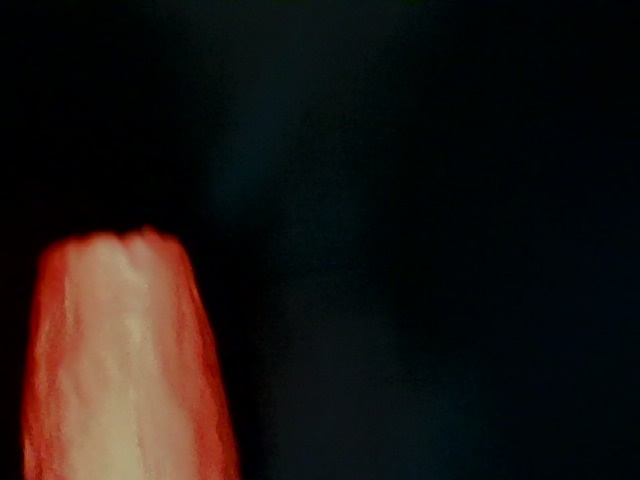CYLJ: (69, 95, 186, 215)
